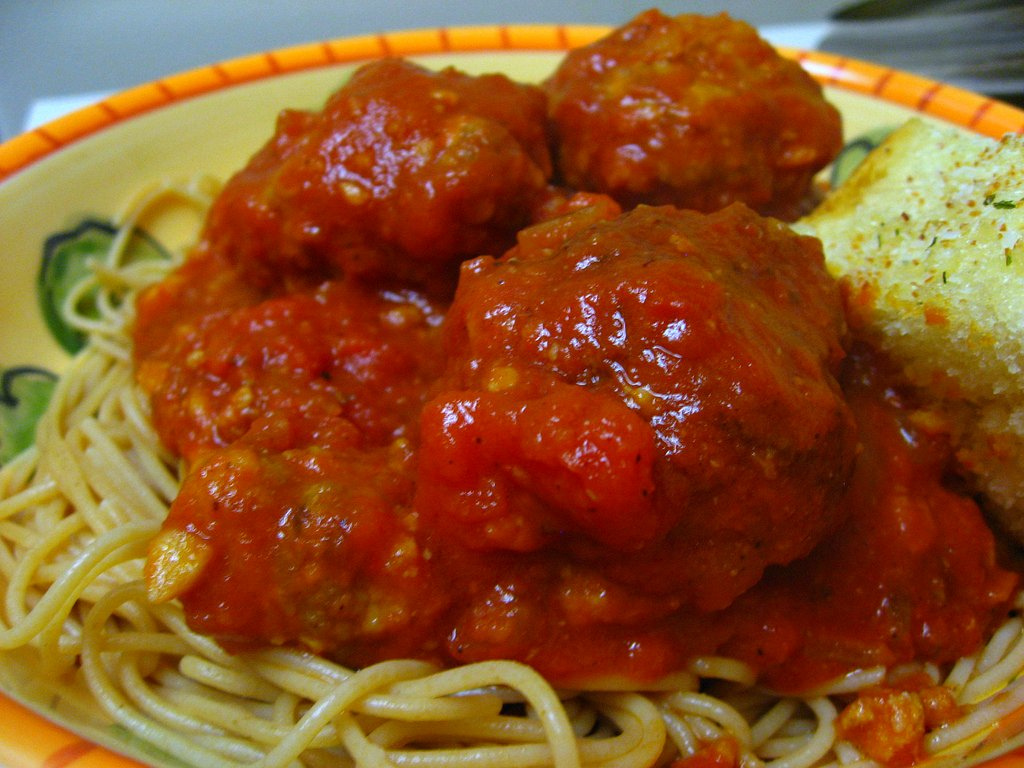meatballs: (492, 231, 844, 509), (259, 63, 527, 246), (567, 31, 815, 200)
plain spaghetti: (11, 579, 1008, 768), (23, 267, 188, 768)
slice of bread: (841, 122, 1024, 497)
